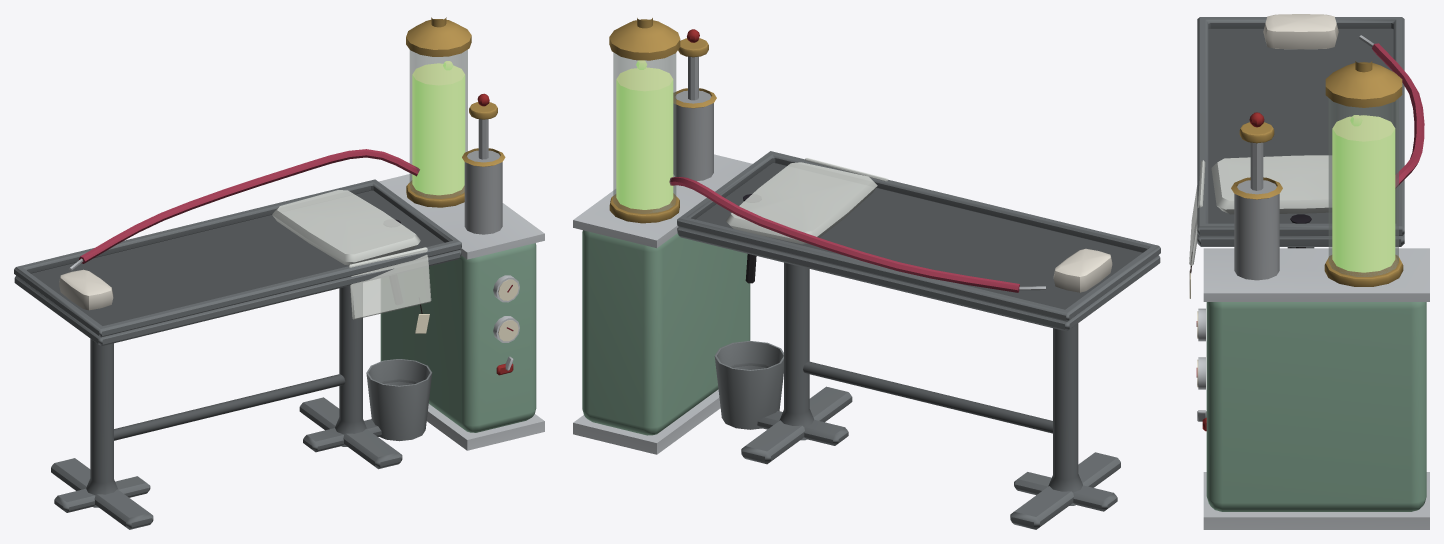
Rendered from station_embalming.glb.
The picture shows the model from 3 angles, left to right: view 1: azimuth 30°, elevation 25°; view 2: azimuth 150°, elevation 25°; view 3: azimuth 270°, elevation 25°; orthographic projection. The views are drawn at different scales.
Visible parts, largest first — view 1: station_embalming, glow, pump; view 2: station_embalming, glow, pump; view 3: station_embalming, glow, pump.
Part boxes in pixels (bbox=[...]): station_embalming: bbox=[14, 17, 544, 529]; glow: bbox=[412, 61, 465, 195]; pump: bbox=[469, 93, 497, 159]; station_embalming: bbox=[573, 18, 1160, 529]; glow: bbox=[616, 60, 673, 209]; pump: bbox=[678, 29, 708, 100]; station_embalming: bbox=[1189, 14, 1429, 529]; glow: bbox=[1332, 115, 1395, 272]; pump: bbox=[1239, 112, 1274, 190].
Bounding box in the file's own units: 1.96 × 1.57 × 0.7661.
